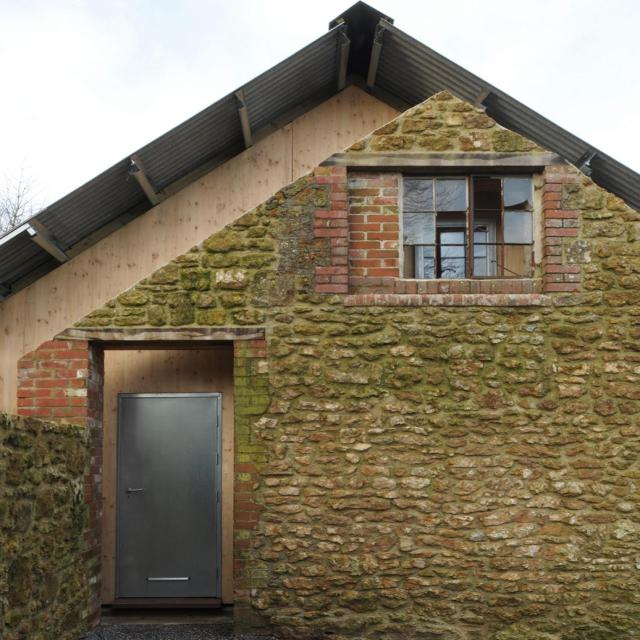door: (111, 391, 221, 599)
